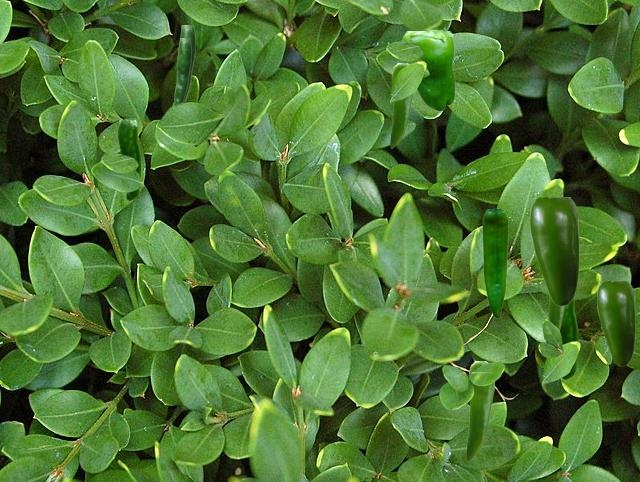green_chili: (530, 197, 578, 305), (401, 31, 454, 110), (597, 281, 634, 365), (482, 209, 507, 317), (466, 361, 493, 460), (390, 63, 413, 147), (118, 120, 139, 199), (177, 25, 194, 101), (172, 38, 190, 105), (561, 298, 576, 378), (548, 297, 565, 330)
